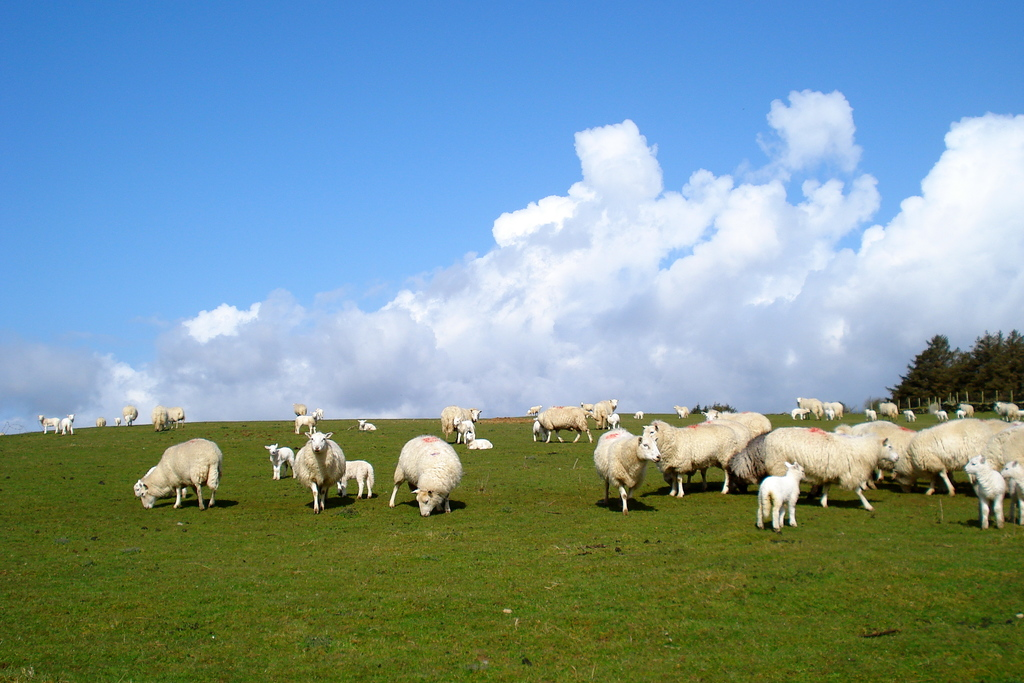sheep: (141, 441, 224, 515)
